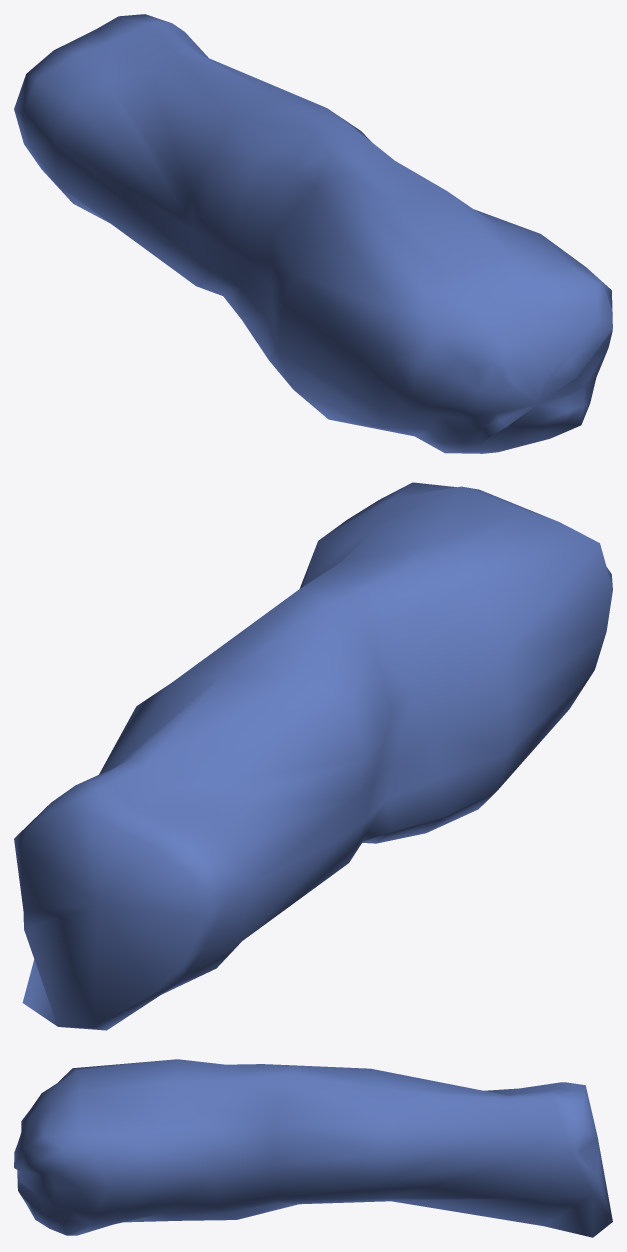
File: UpLeg.L.dae
3 views of the same model, one above another, from view 1: azimuth 30°, elevation 25°; view 2: azimuth 150°, elevation 25°; view 3: azimuth 270°, elevation 25° (orthographic). The views are drawn at different scales.
Visible parts, largest first — view 1: UpLeg_L; view 2: UpLeg_L; view 3: UpLeg_L.
Part boxes in pixels (<box>): UpLeg_L: <box>14,14,612,453</box>; UpLeg_L: <box>14,482,612,1030</box>; UpLeg_L: <box>14,1059,612,1237</box>.
Bounding box in the file's own units: 0.1534 × 0.4728 × 0.1378.
